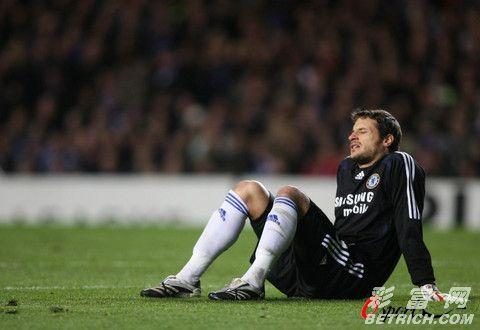bending: (145, 109, 477, 306)
